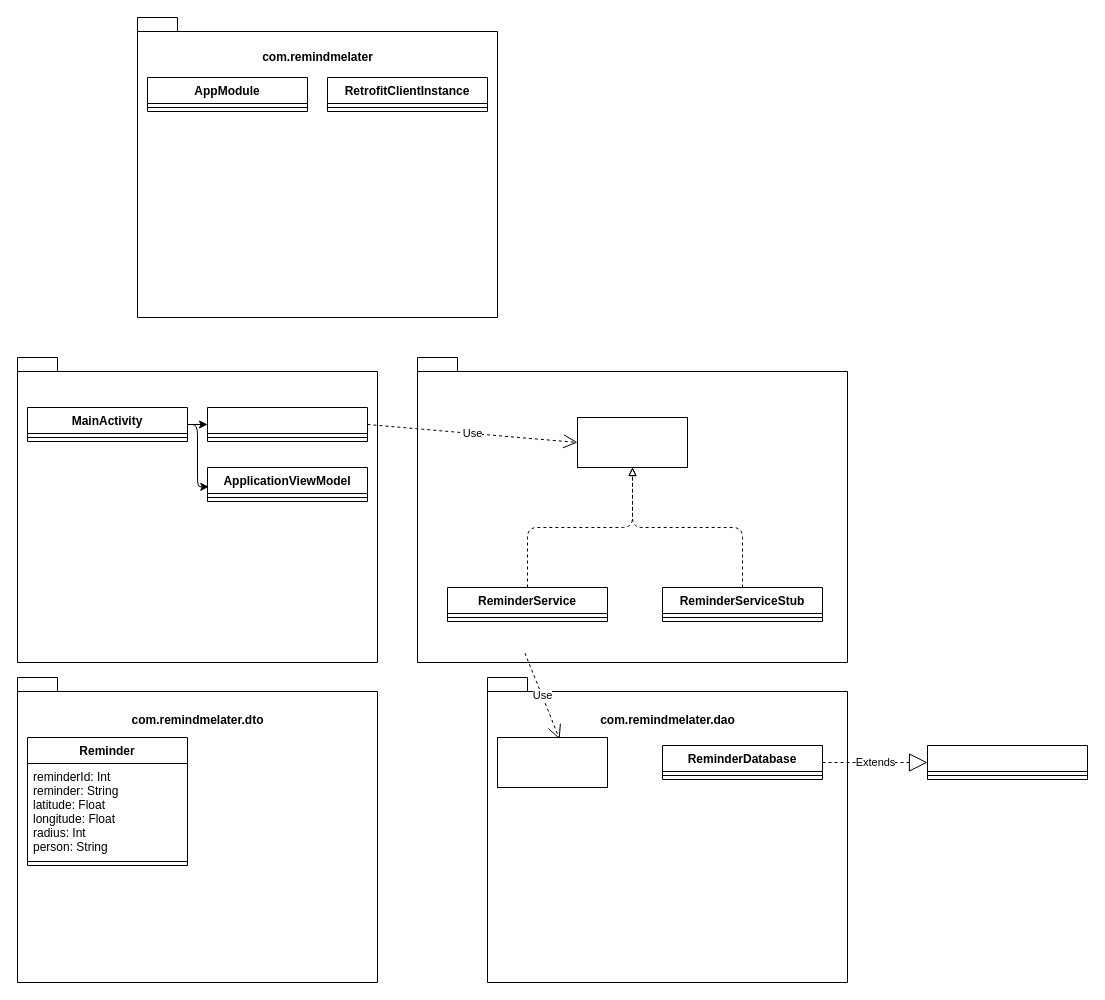
This 1105x1000 diagram has some shape labels left out. Each missing label, with the box of its shape:
com.remindmelater.service: (416, 356, 848, 662)
com.remindmelater.ui: (16, 356, 378, 662)
RoomDatabase: (926, 744, 1088, 780)
ViewModel: (206, 406, 368, 442)
«interface» IReminderDAO: (496, 736, 608, 788)
«interface» IReminderService: (576, 416, 688, 468)
